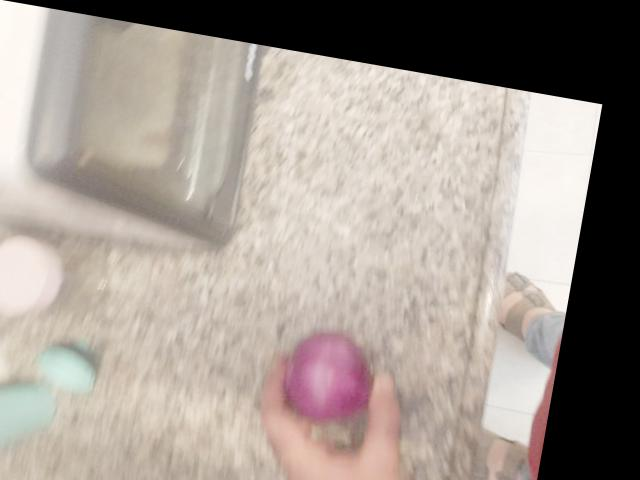onion: (220, 39, 348, 175)
